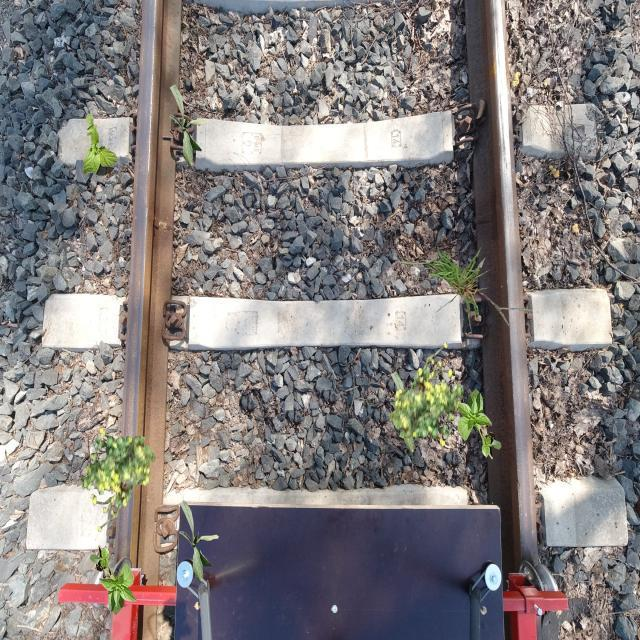Plant: (389, 245, 532, 335), (82, 428, 157, 533), (389, 342, 464, 447), (90, 545, 138, 616), (454, 389, 502, 460), (390, 371, 430, 454), (179, 500, 219, 582), (169, 84, 209, 166), (83, 113, 118, 176)
